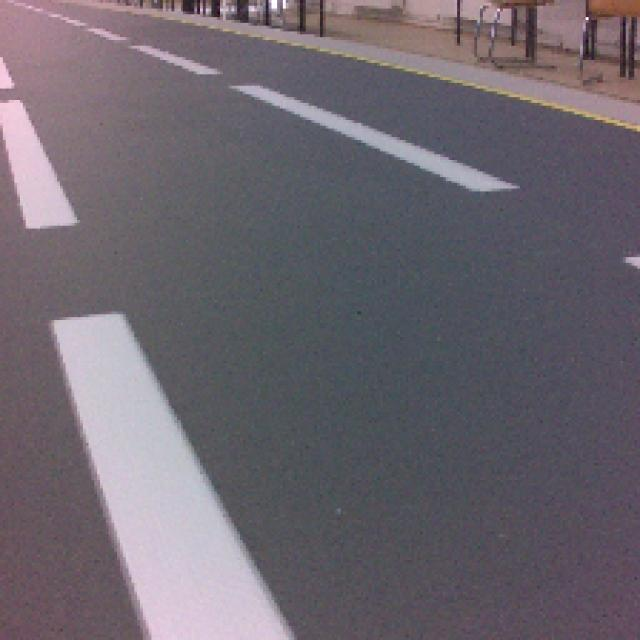Pedestrian crosswalk: (50, 312, 291, 640)
